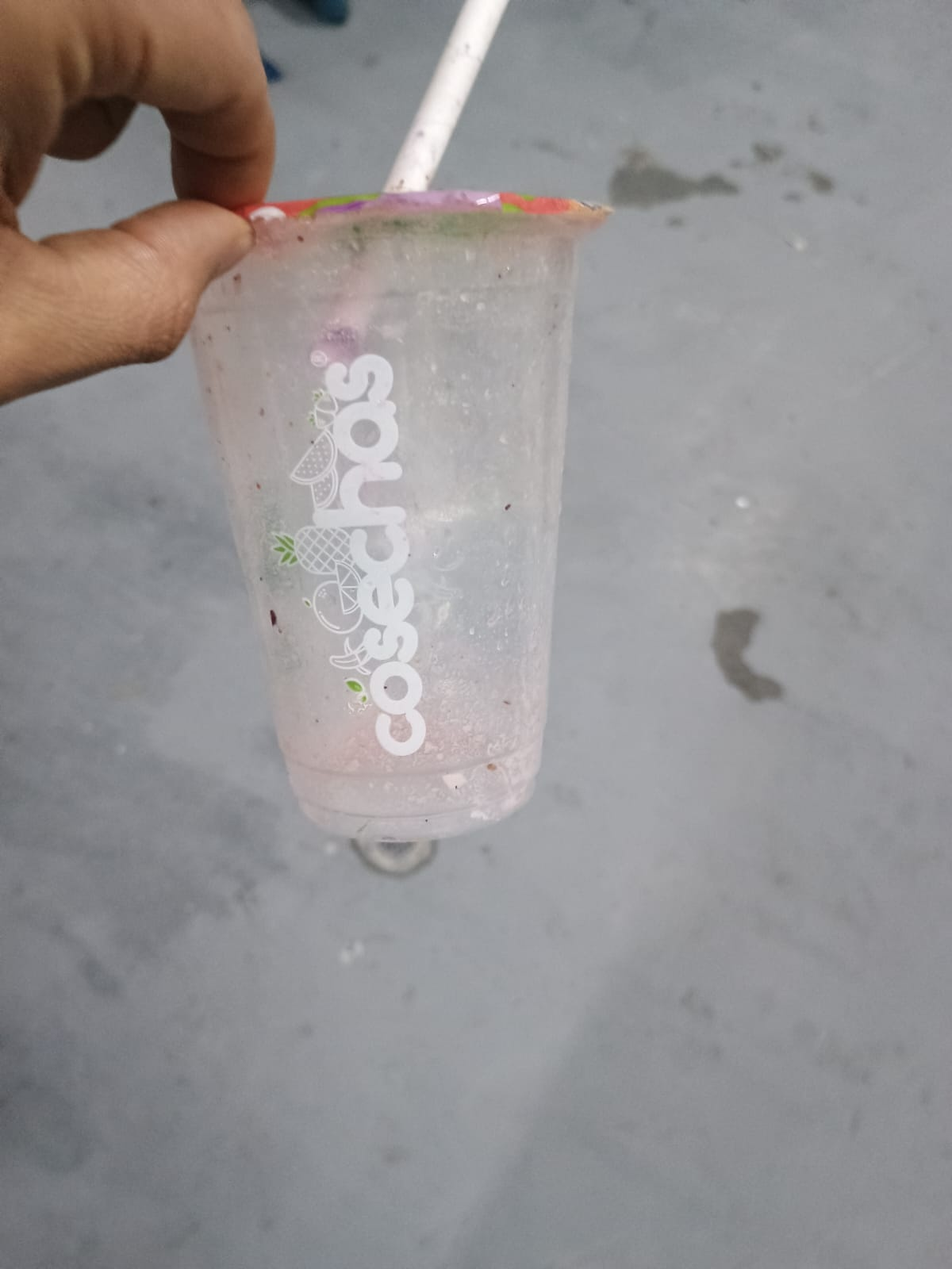Plastico: (175, 191, 613, 835)
